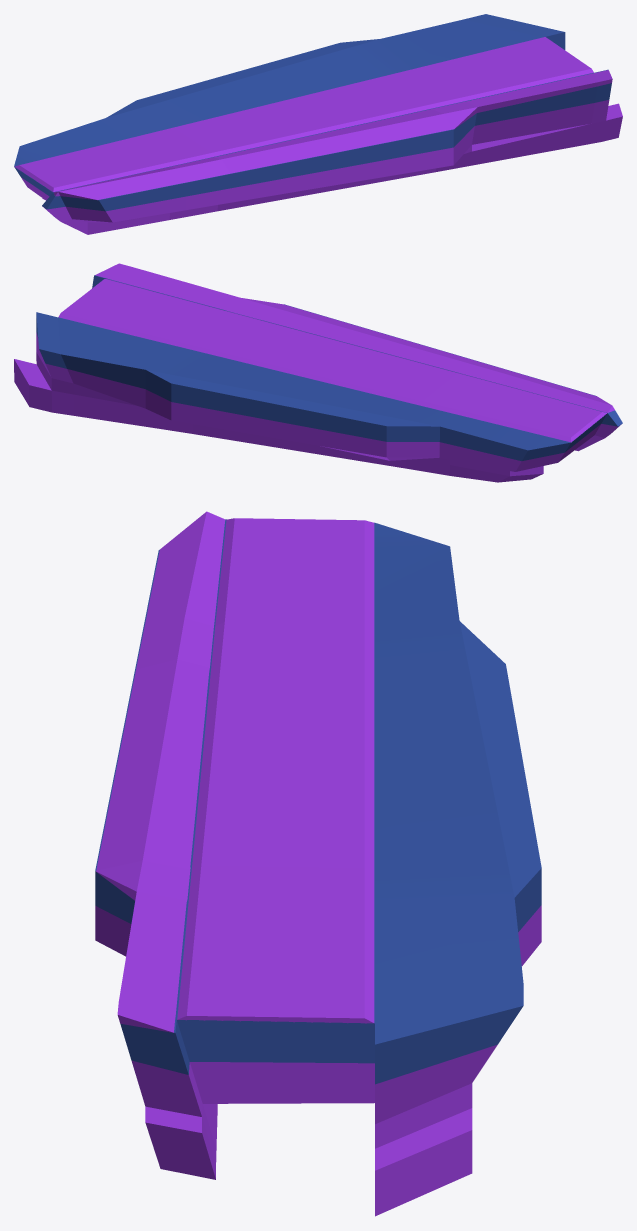
Rendered from Bridge_rework_2 bien.fbx.
The picture shows the model from 3 angles, top to bottom: view 1: azimuth 30°, elevation 25°; view 2: azimuth 150°, elevation 25°; view 3: azimuth 270°, elevation 25°; orthographic projection. The views are drawn at different scales.
Visible parts, largest first — view 1: Birdge_rework_2_notwalk, Bridge_rework_2_walk; view 2: Birdge_rework_2_notwalk, Bridge_rework_2_walk; view 3: Birdge_rework_2_notwalk, Bridge_rework_2_walk.
Boxes of the visible parts, x1,y1,x2,y2 form: Birdge_rework_2_notwalk: (14,37,622,234); Bridge_rework_2_walk: (14,14,611,211); Birdge_rework_2_notwalk: (14,263,621,482); Bridge_rework_2_walk: (36,275,622,461); Birdge_rework_2_notwalk: (95,511,541,1216); Bridge_rework_2_walk: (95,519,541,1084).
Size of the model in its own units: 3528 by 483 by 1203.
